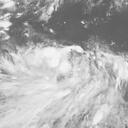cyclone: (16, 42, 95, 110)
